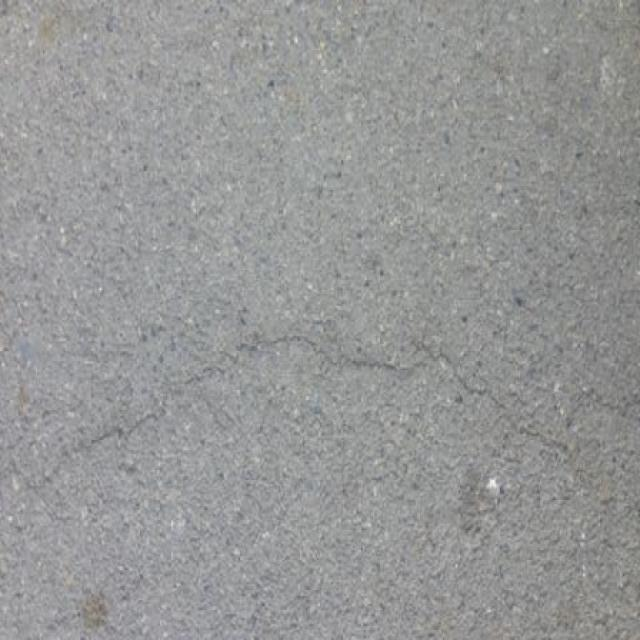Alligator Crack: (0, 330, 640, 498)
